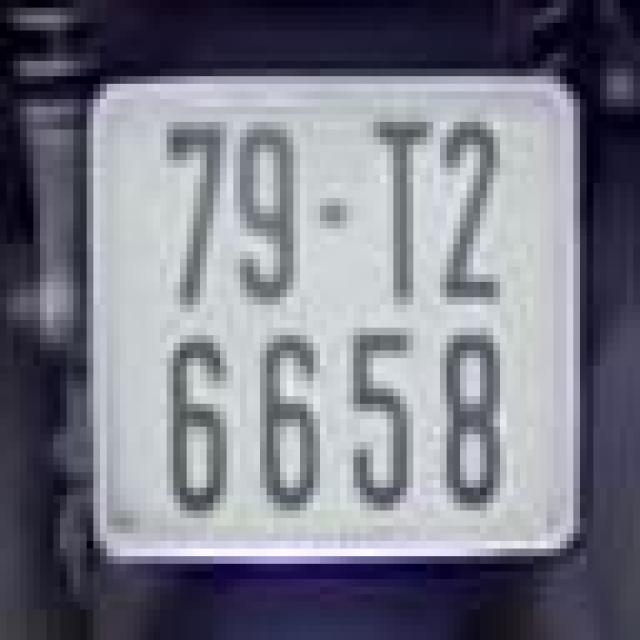2: (430, 107, 517, 312)
5: (344, 320, 424, 518)
6: (154, 328, 234, 526), (253, 324, 327, 522)
7: (153, 103, 227, 316)
8: (430, 324, 510, 514)
9: (227, 107, 300, 312)
T: (367, 107, 433, 312)
